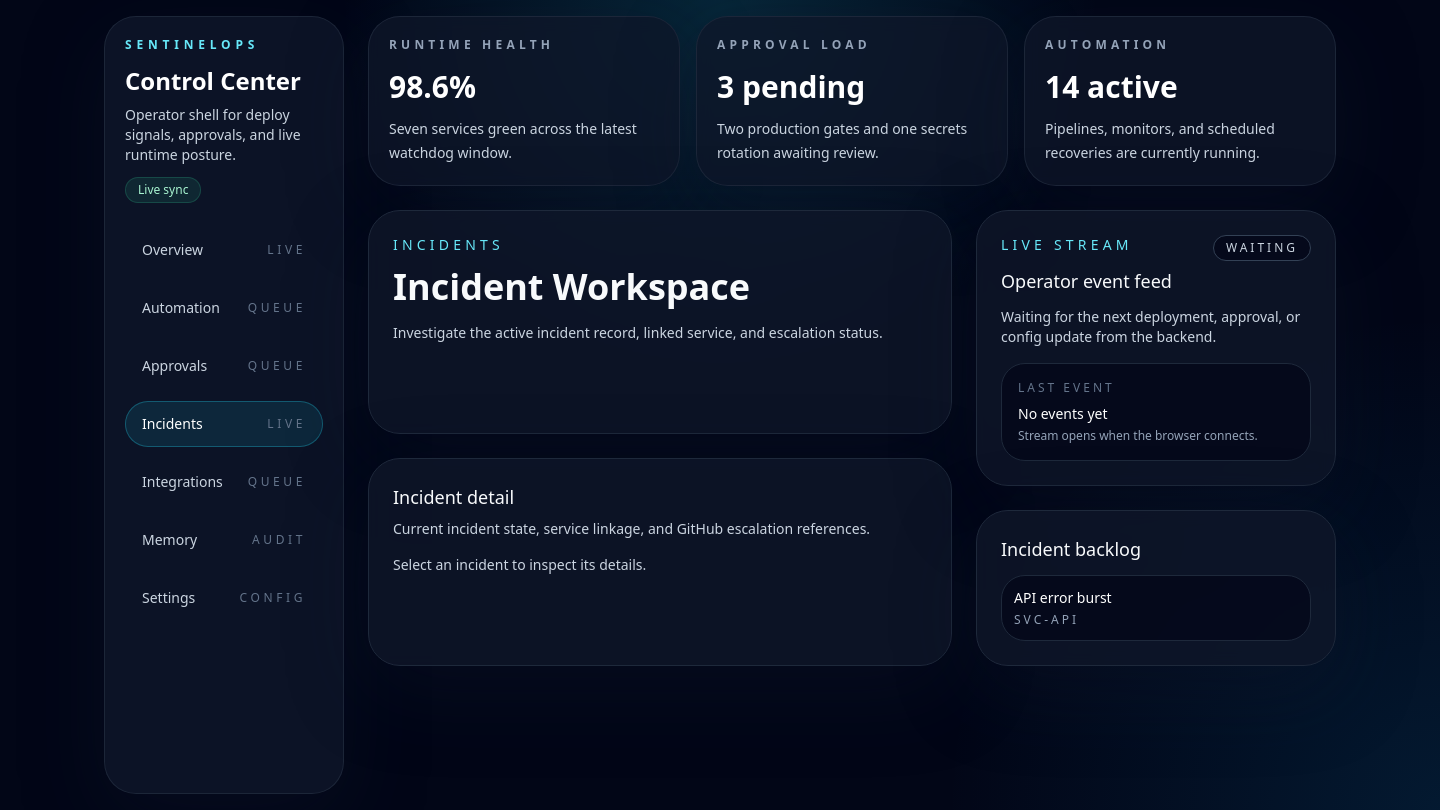
it: route pages › lets operators open an incident from the incident workspace backlog
Check: the heading "Incident Workspace" is shown, box [393,262,750,311]
Check: the text "API error burst" is shown, box [1014,588,1112,607]
Click the link "API error burst svc-api".
click(1063, 608)  # box [1014,588,1112,628]
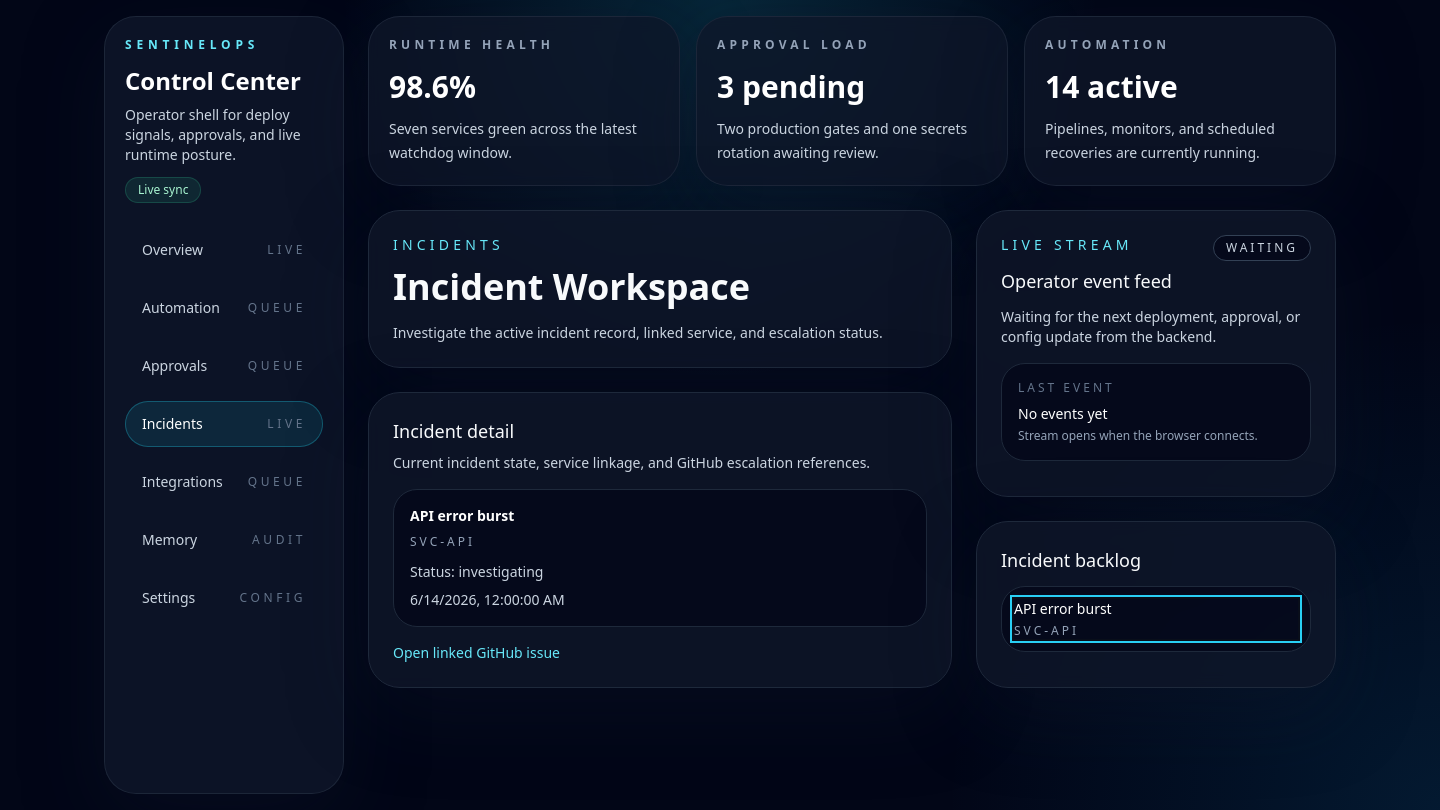
Check: the heading "Incident detail" is shown, box [393,419,514,443]
Check: the text "Status: investigating" is shown, box [410,562,544,581]
